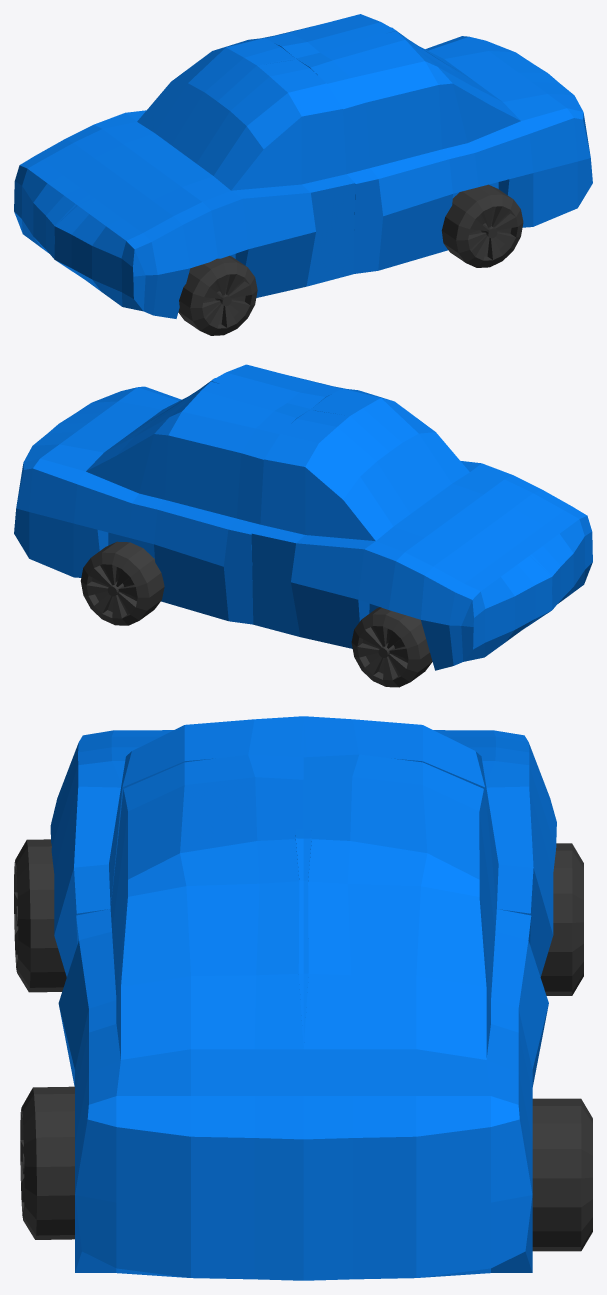
File: car.fbx
3 views of the same model, one above another, from view 1: azimuth 30°, elevation 25°; view 2: azimuth 150°, elevation 25°; view 3: azimuth 270°, elevation 25° (orthographic). The views are drawn at different scales.
Parts seen in each view (by area): view 1: Body, WheelLL, WheelFL; view 2: Body, WheelLR, WheelFR; view 3: Body, WheelLR, WheelLL, WheelFL, WheelFR.
Part boxes in pixels (x1,y1,x2,y2): Body: [14, 14, 592, 318]; WheelLL: [441, 184, 523, 267]; WheelFL: [178, 255, 257, 335]; Body: [14, 364, 592, 670]; WheelLR: [80, 541, 164, 625]; WheelFR: [351, 607, 432, 687]; Body: [50, 716, 556, 1280]; WheelLR: [532, 1098, 592, 1251]; WheelLL: [20, 1086, 74, 1239]; WheelFL: [14, 839, 66, 992]; WheelFR: [540, 843, 583, 995].
Size of the model in its own units: 4.64 by 1.76 by 2.42.
